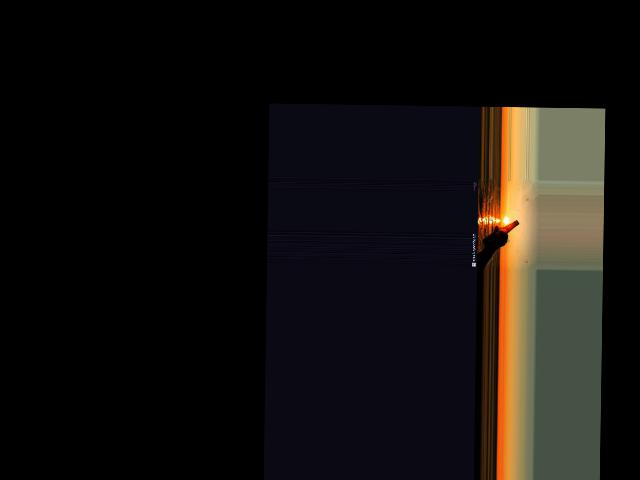beer: (482, 219, 519, 247)
